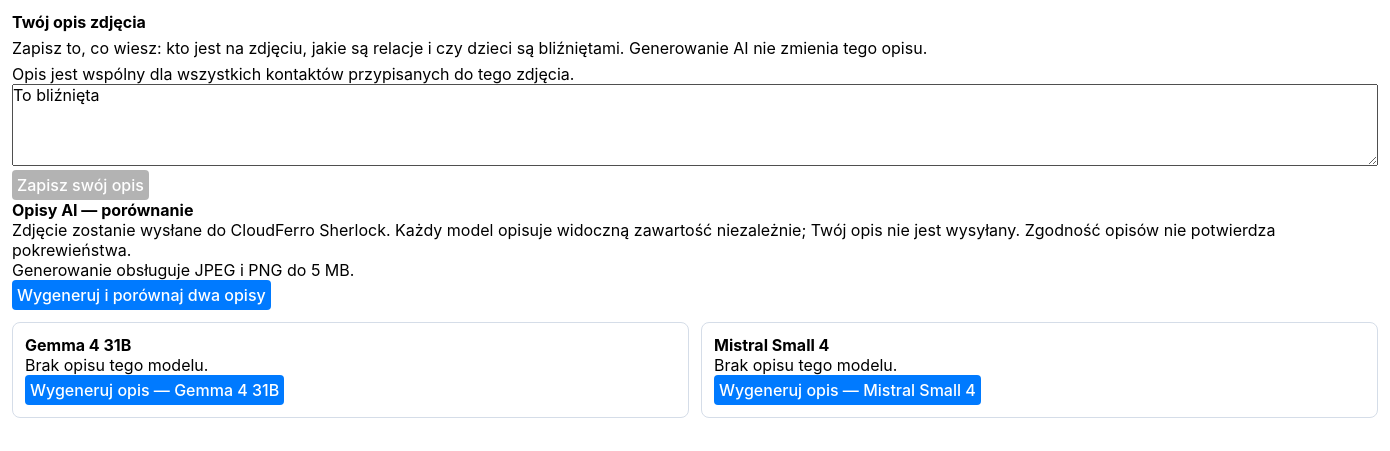
Test: contact photo descriptions › keeps both out-of-order model results and an unsaved user draft
Click the button "Wygeneruj i porównaj dwa opisy" at (141,295), box [12,280,271,310]
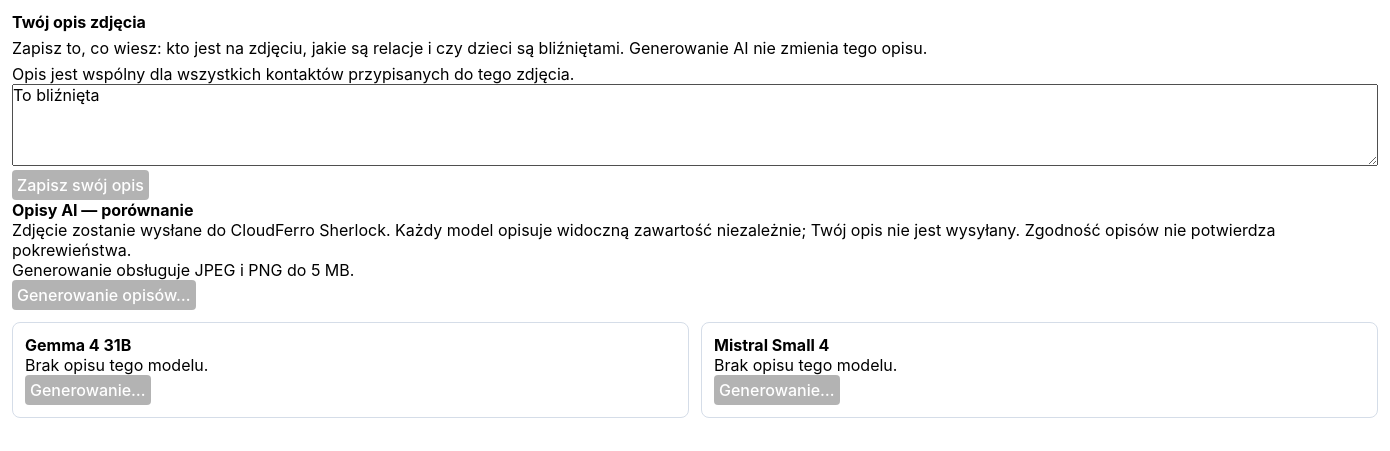
Replace the text in the text box labelled "Twój opis zdjęcia" with "Wiem, że to mąż i bliźnięta" at (695,125), box [12,84,1378,166]
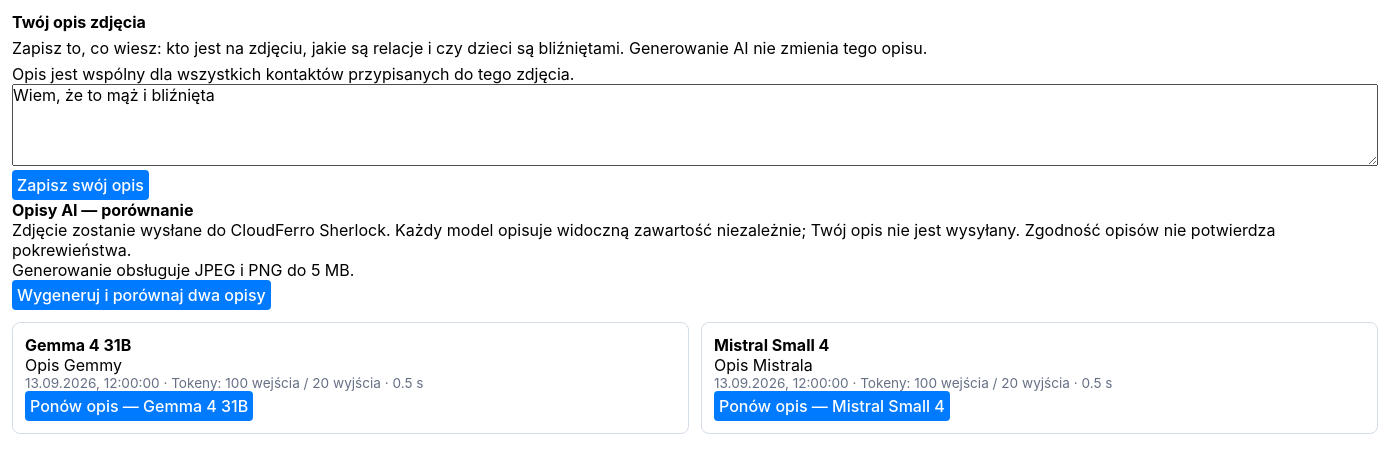
expect the text "Opis Mistrala" is shown: met, box [714,355,813,375]
expect the text "Opis Gemmy" is shown: met, box [25,355,122,375]
